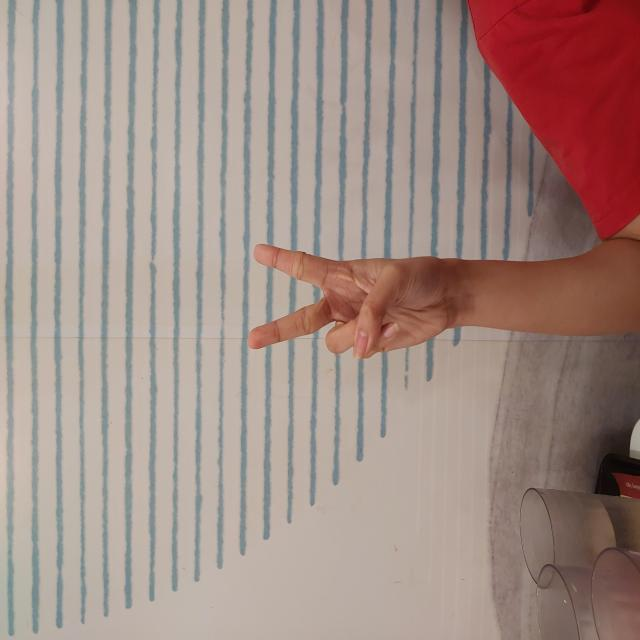V: (279, 246, 399, 450)
